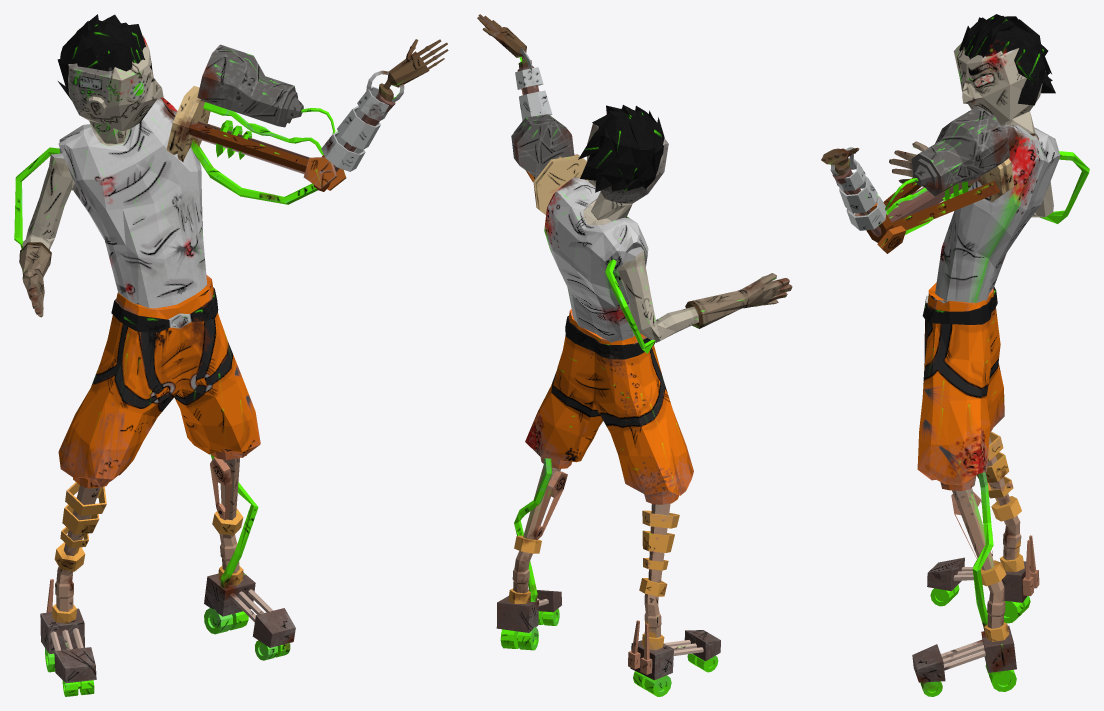
File: CyborgFINALAnimation_000061.obj
3 renders of one model, left to right at view 1: azimuth 30°, elevation 25°; view 2: azimuth 150°, elevation 25°; view 3: azimuth 270°, elevation 25°, orthographic. The views are drawn at different scales.
Visible parts, largest first — view 1: CyborgMesh_Cube.002; view 2: CyborgMesh_Cube.002; view 3: CyborgMesh_Cube.002.
Boxes of the visible parts, x1,y1,x2,y2 form: CyborgMesh_Cube.002: (14, 14, 448, 696); CyborgMesh_Cube.002: (477, 14, 792, 696); CyborgMesh_Cube.002: (821, 14, 1089, 696).
Size of the model in its own units: 5.92 by 9.54 by 3.76.
